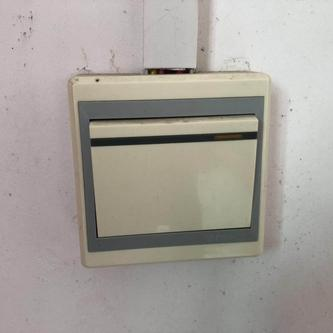switch: (83, 106, 264, 240)
